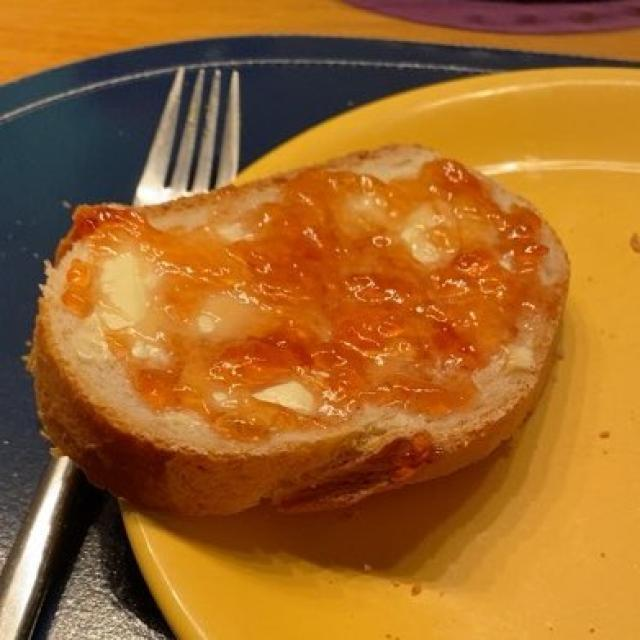bread: (39, 163, 558, 521)
butter: (76, 251, 313, 418)
